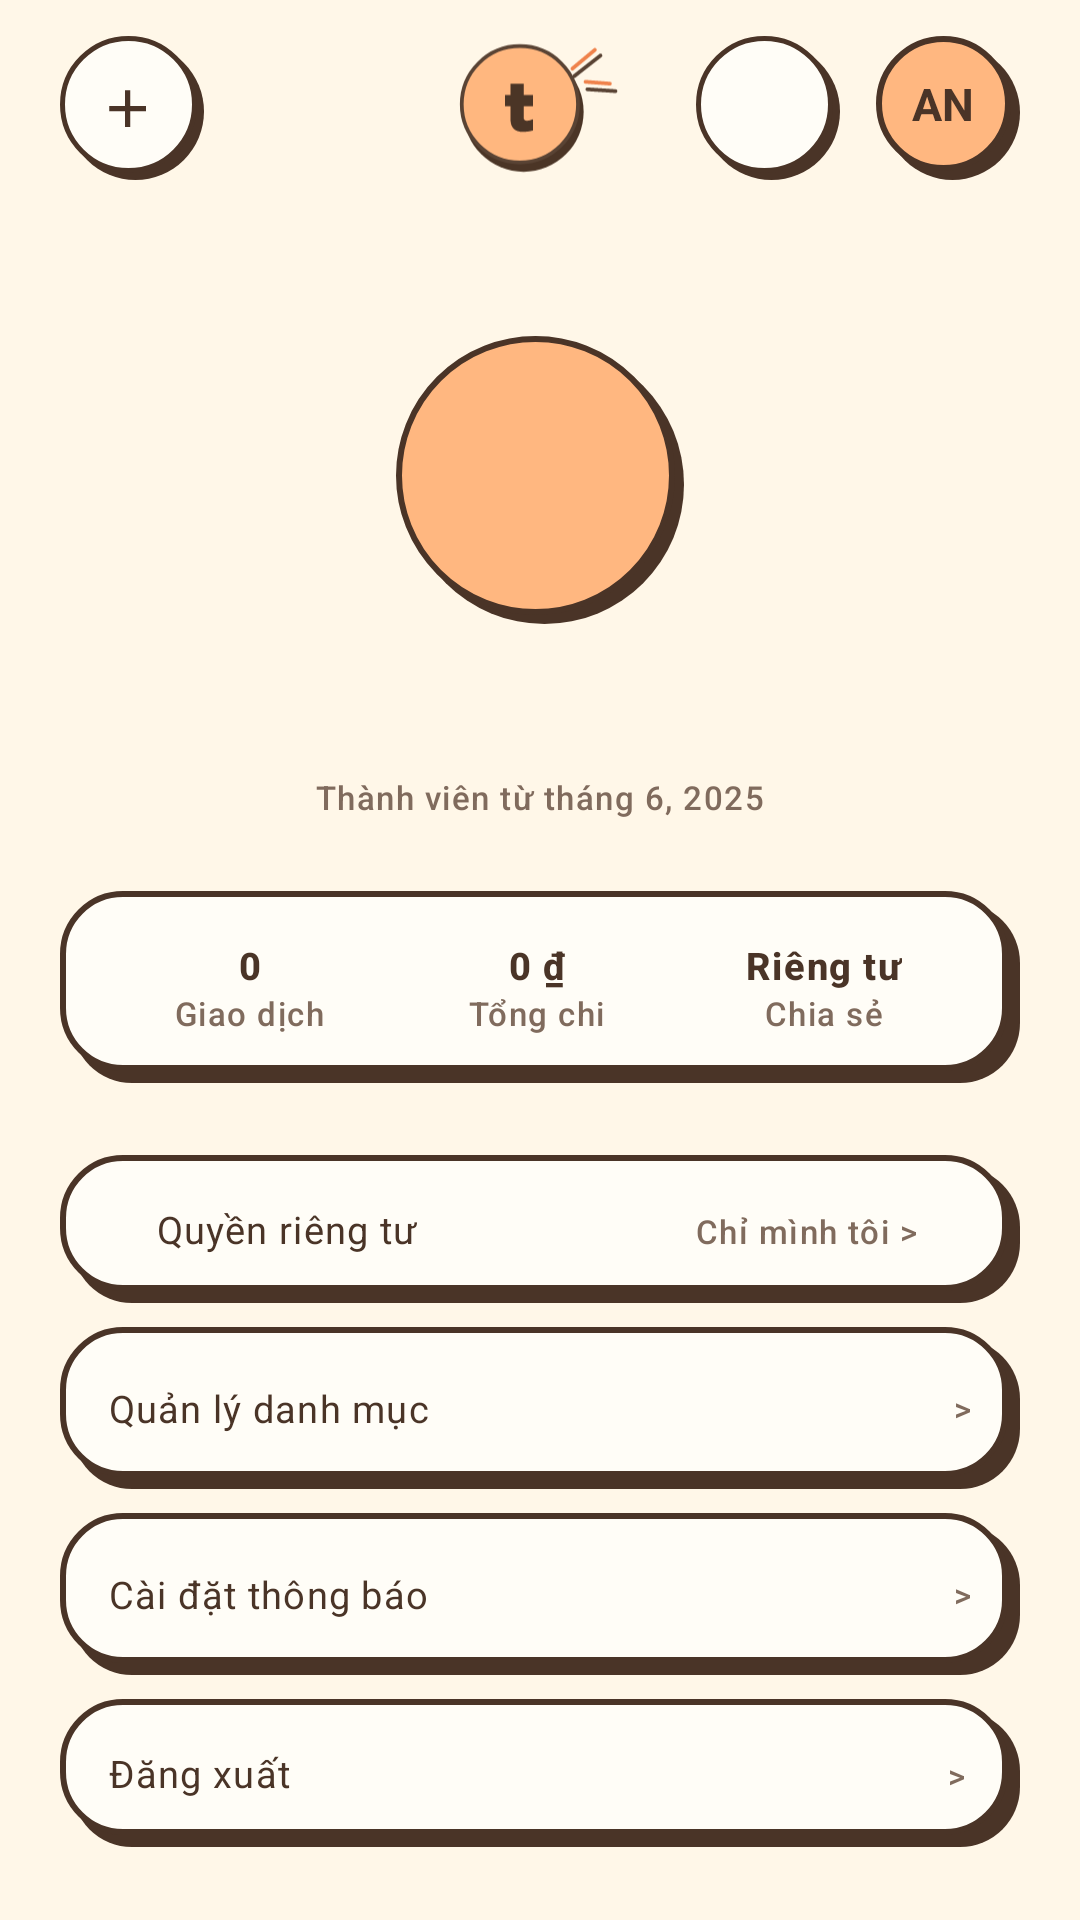

Screen size 1080 × 1920. Icon name, then its box in pixels as bbox(x1, y1, x2, y2):
Thêm khoản chi: bbox(60, 36, 204, 180)
